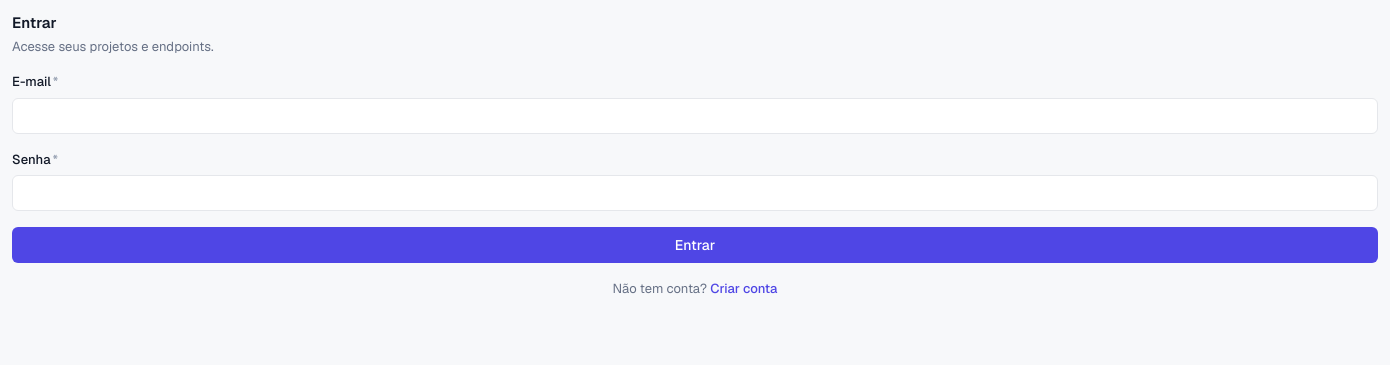
Test case: LoginPage › mostra a mensagem do backend quando as credenciais falham
Type "tiago@exemplo.com" into the field labelled "E-mail*" at {"x": 695, "y": 116}, box [12, 98, 1378, 134]
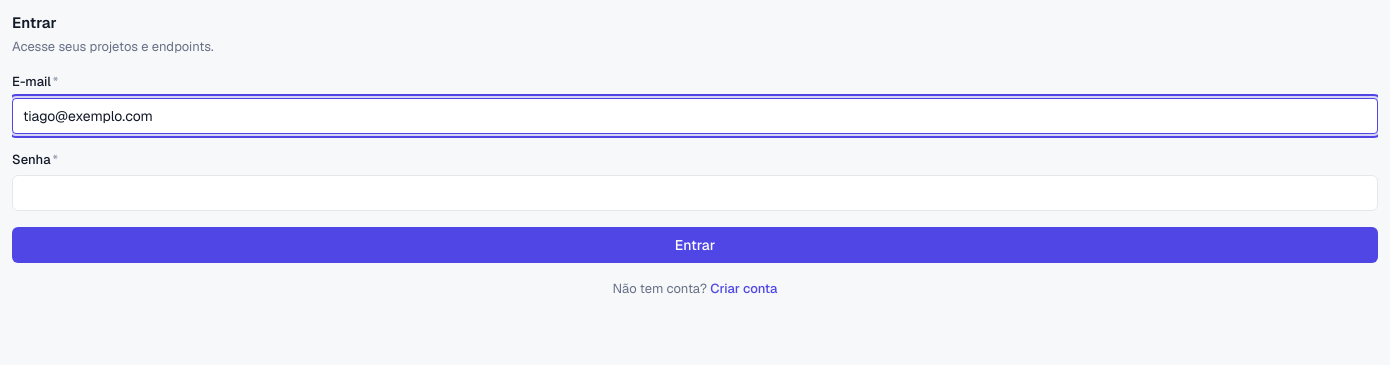
Type "senha-secreta" into the password field labelled "Senha*" at {"x": 695, "y": 193}, box [12, 175, 1378, 211]
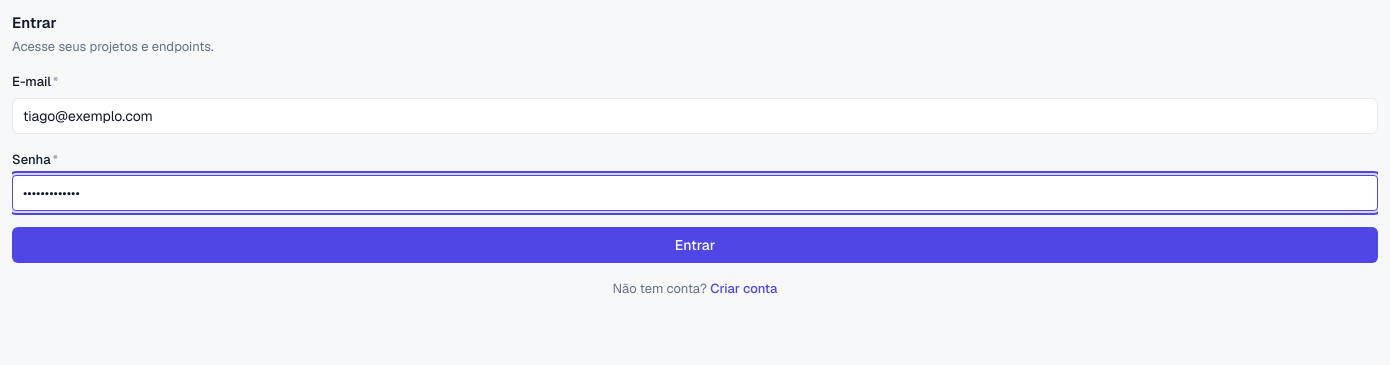
Click the button "Entrar" at {"x": 695, "y": 245}, box [12, 227, 1378, 263]
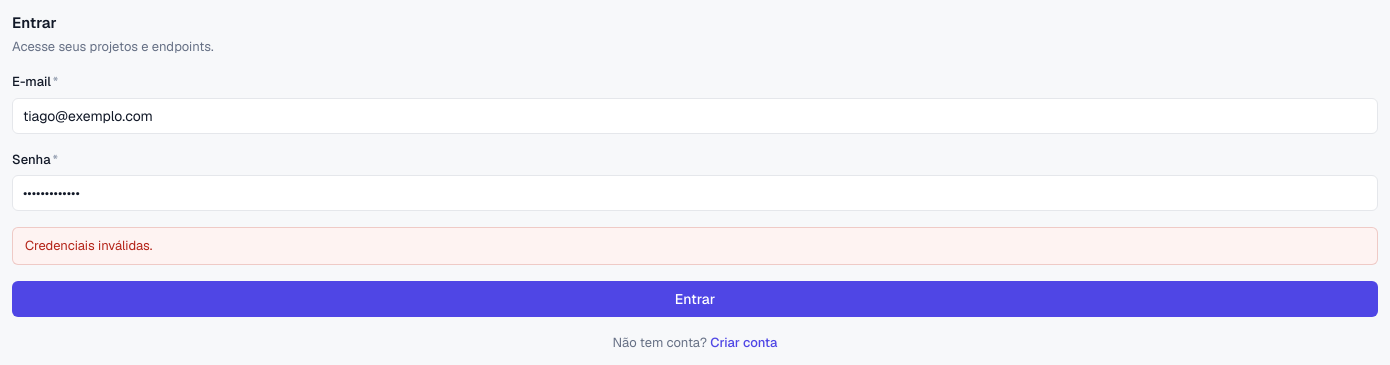
Check: the message reads "Credenciais inválidas.", box [25, 237, 152, 254]
